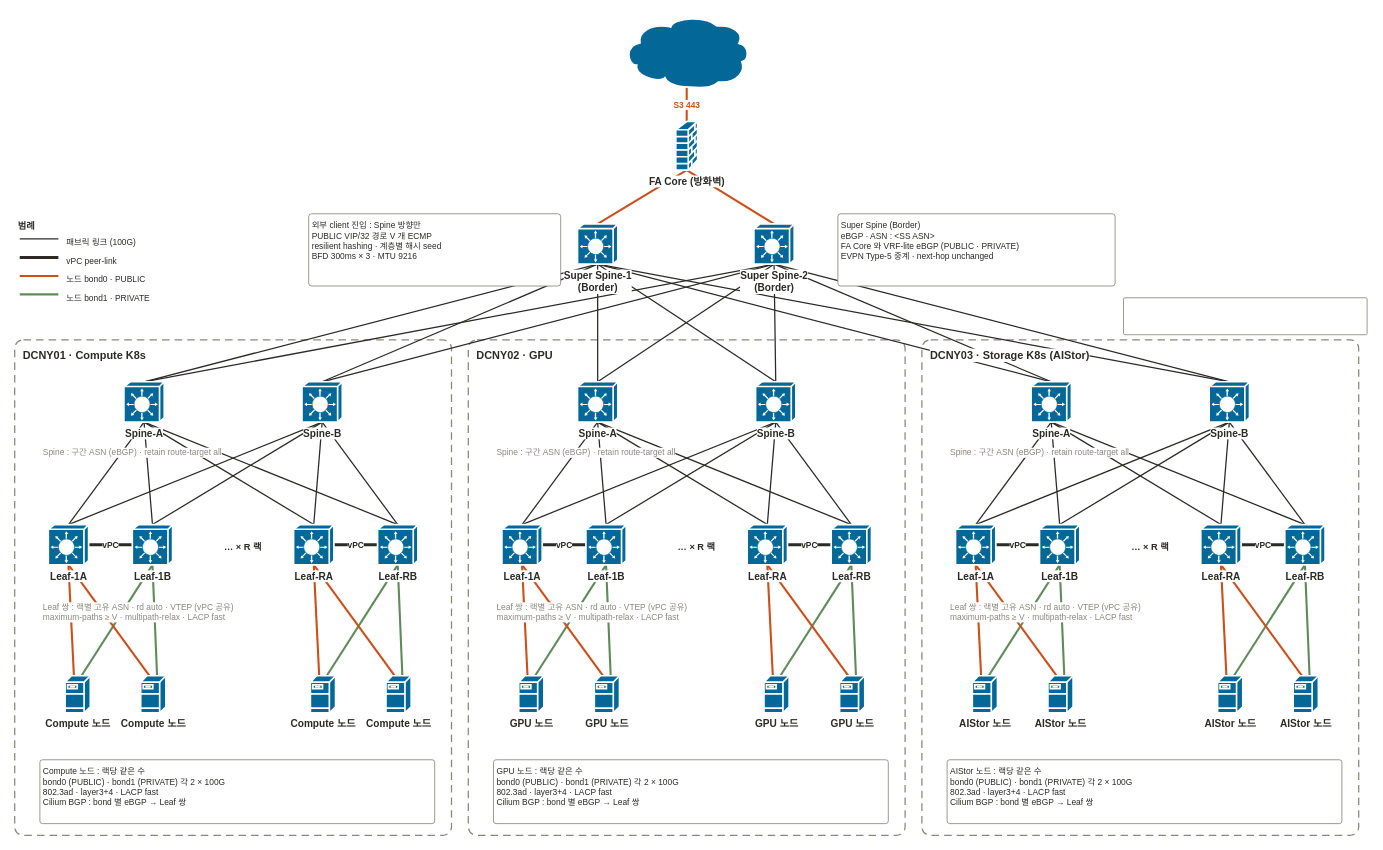
The diagram is 1383 pixels wide and 850 high, and some of its shapes have lost their labels. The box of each missing label's shape, as (x1, y1, x2, y2) in pixels:
구간 간 링크 (DCNY01 · 02 → 03) 대역 ≥ Compute + GPU 합 · 2 경로 이상 · RTT ≤ 0.2 ms: (1123, 297, 1367, 335)
외부 client 원천 소스: (622, 14, 750, 88)
